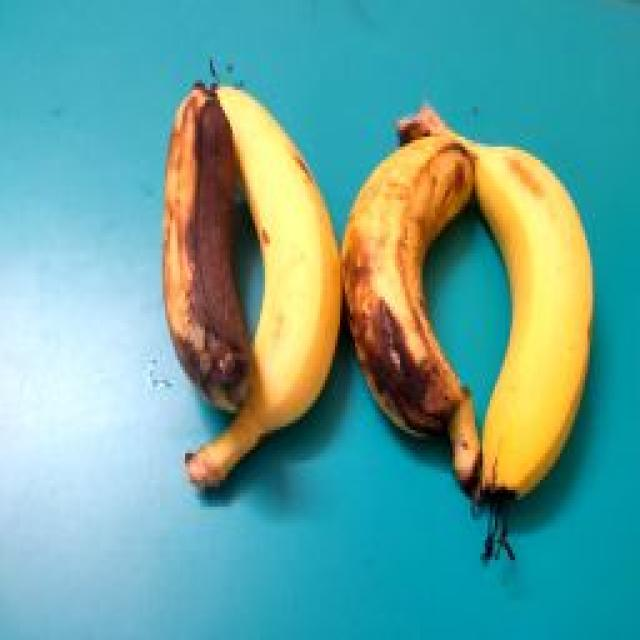Organik: (438, 85, 616, 542), (208, 48, 352, 497), (326, 101, 480, 488), (142, 76, 260, 419)
